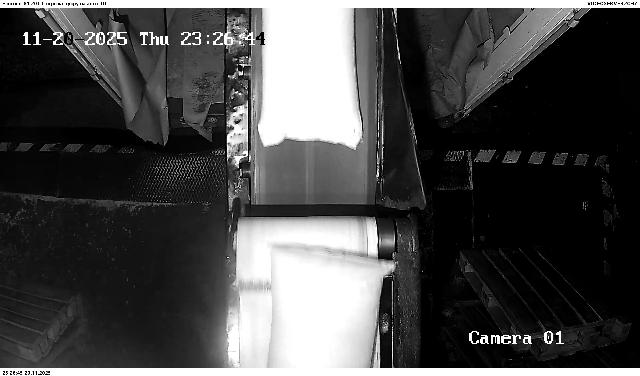bag: (267, 246, 394, 368), (257, 8, 362, 149)
